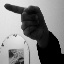g: (3, 2, 50, 41)
